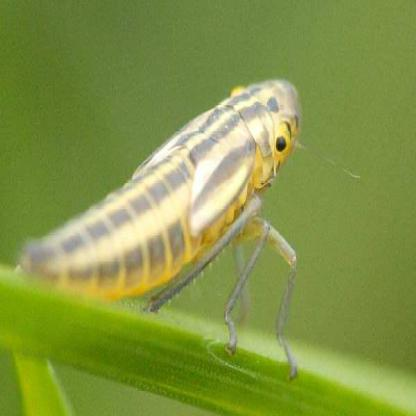Green-Leafhopper: (15, 74, 306, 391)
